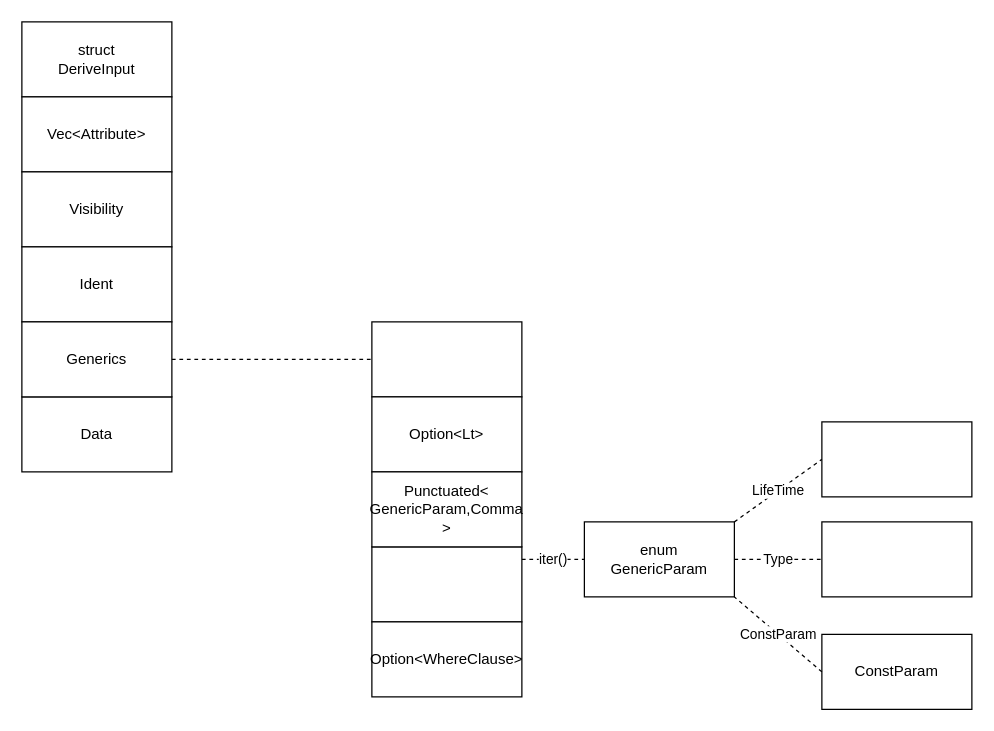
Some shapes in this 994 by 731 pixel diagram are drawn without their labels. The centre of each missing label's shape, as x and y in pixels:
LifetimeParam: [896,459]
Option<Gt>: [446,584]
struct Generics: [446,359]
TypeParam: [896,559]
